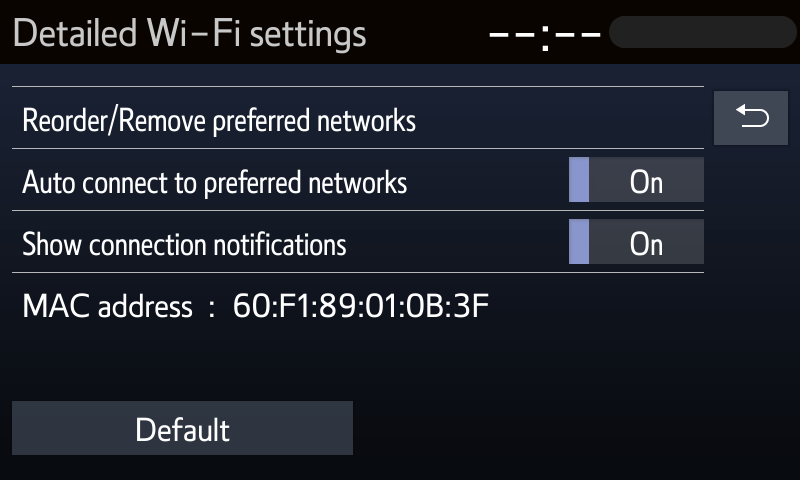touchPart: (12, 81, 708, 154), (11, 206, 707, 279), (13, 146, 709, 213), (6, 399, 361, 456), (713, 86, 792, 150)
untouchPart: (12, 268, 708, 329), (478, 6, 795, 57), (9, 13, 370, 54)
